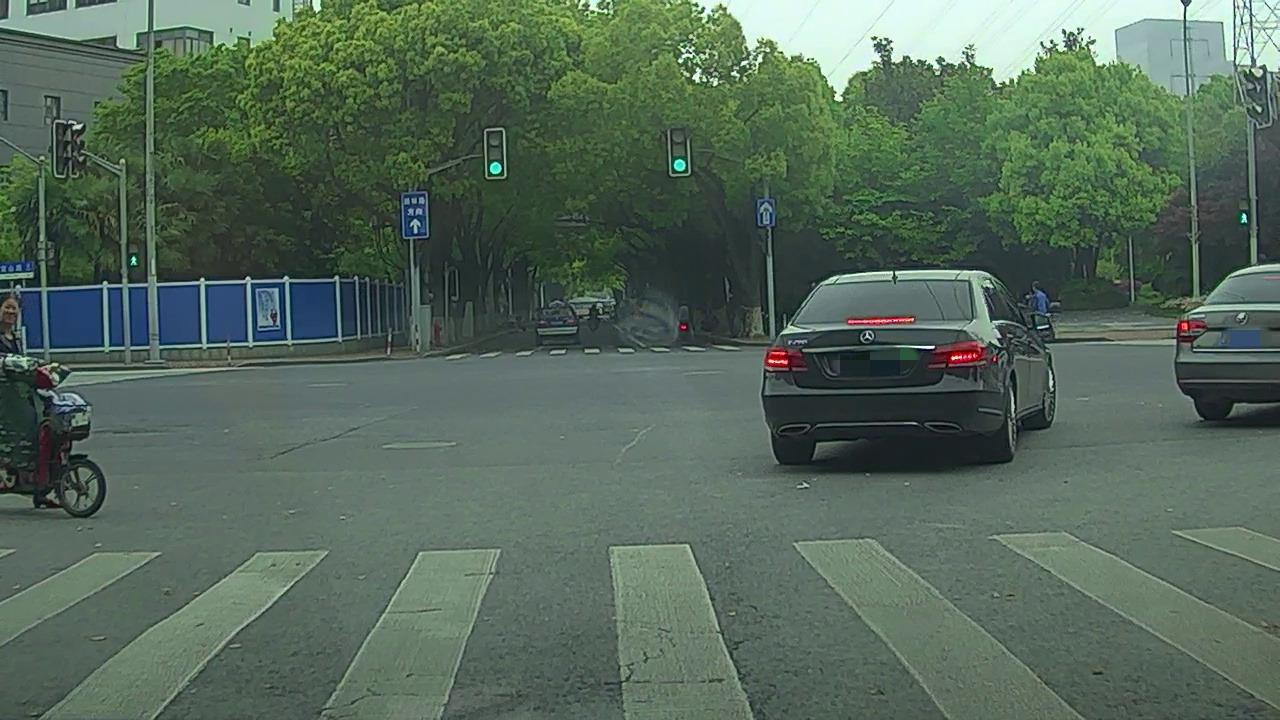traffic_light: (486, 129, 504, 178), (671, 128, 689, 174)
